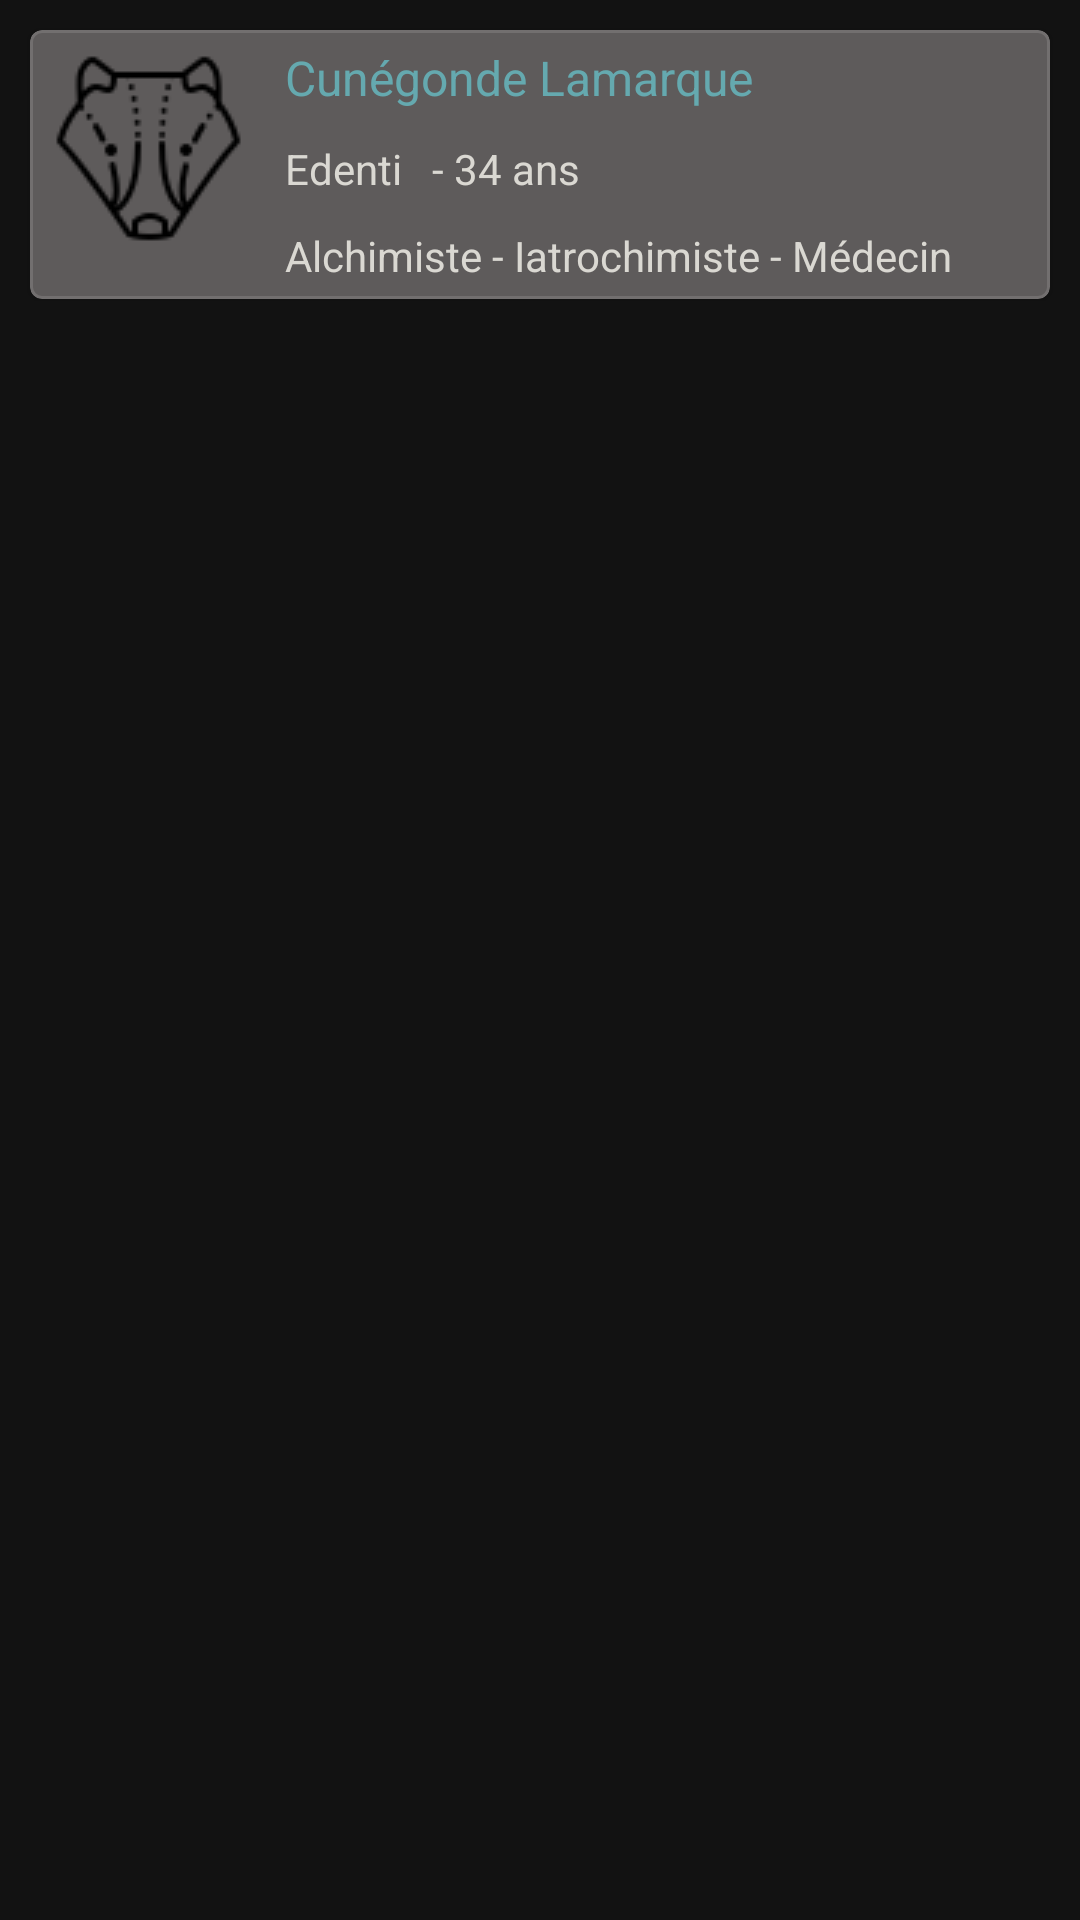

Point at icon controls on the screen. Image size 1080x1920, points as point (x, y).
badger: point (148, 148)
